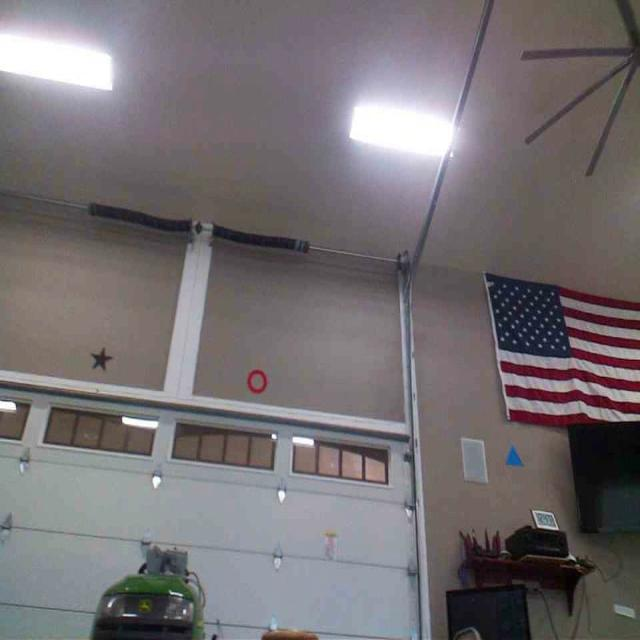ring_red: (245, 367, 267, 394)
triangle_black: (91, 344, 111, 371)
triangle_blue: (504, 446, 522, 467)
